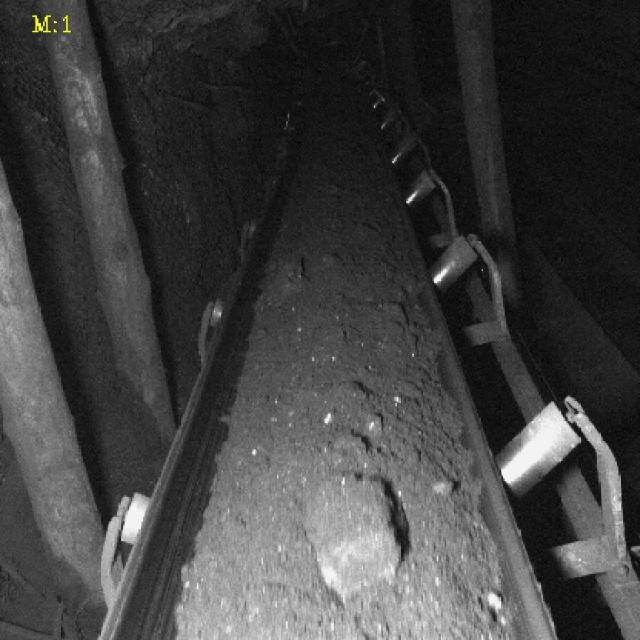large_sized_coal: (298, 474, 409, 594)
